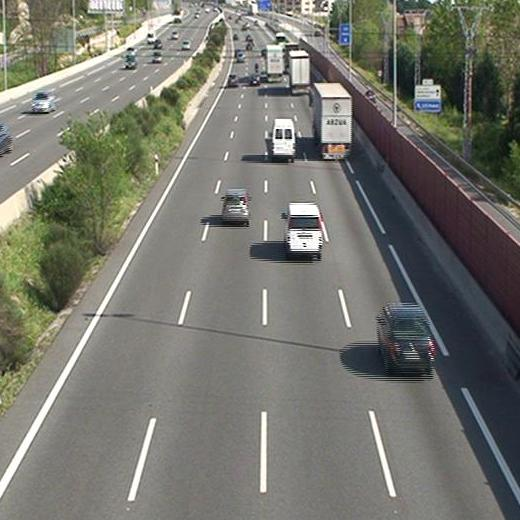car: (376, 305, 434, 368), (284, 203, 323, 257), (221, 189, 249, 223), (227, 72, 237, 87), (249, 74, 260, 86), (237, 51, 246, 62)
motorcycle: (252, 62, 259, 72)
truck: (311, 83, 352, 158), (287, 50, 309, 93), (266, 45, 284, 81)
van: (271, 119, 294, 159)
